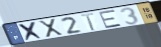2: (60, 16, 84, 35)
3: (120, 5, 141, 26)
E: (97, 9, 124, 29)
T: (79, 12, 96, 32)
X: (17, 21, 46, 42), (37, 18, 65, 39)
